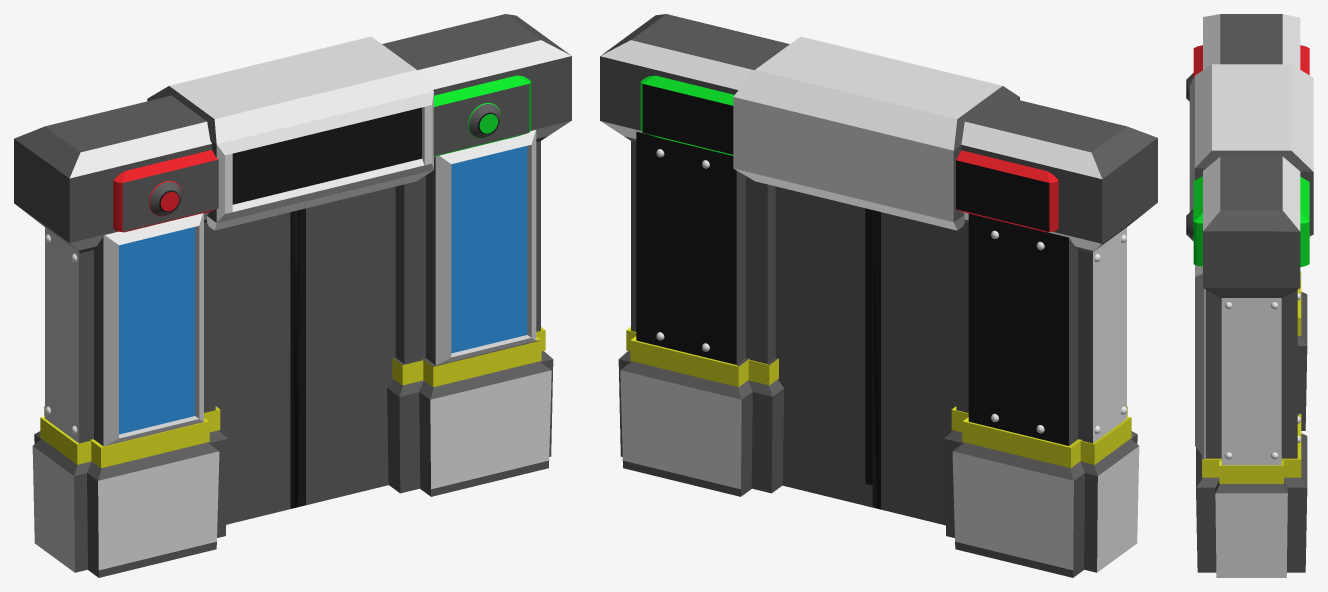
File: portacorrigida.fbx
3 views of the same model, side by side, from view 1: azimuth 30°, elevation 25°; view 2: azimuth 150°, elevation 25°; view 3: azimuth 270°, elevation 25° (orthographic). The views are drawn at different scales.
Visible parts, largest first — view 1: Cube.001, PortaD, portaE; view 2: Cube.001, PortaD, portaE; view 3: Cube.001.
Boxes of the visible parts, left/top/right/bottom form: Cube.001: left=14, top=14, right=571, bottom=577; PortaD: left=298, top=186, right=395, bottom=506; portaE: left=215, top=210, right=297, bottom=524; Cube.001: left=600, top=14, right=1157, bottom=577; PortaD: left=775, top=186, right=873, bottom=507; portaE: left=873, top=210, right=956, bottom=525; Cube.001: left=1186, top=14, right=1313, bottom=577.
Size of the model in its own units: 1103 by 886 by 277.
